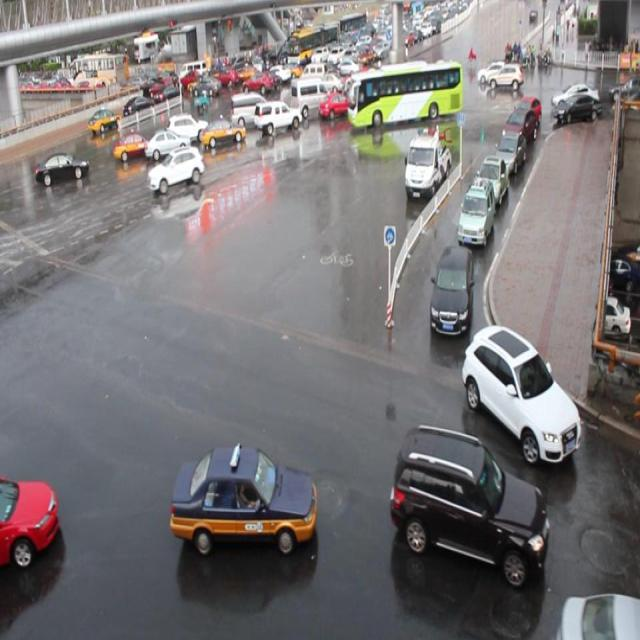bus: (402, 129, 452, 202)
car: (390, 425, 547, 582), (462, 324, 579, 462), (170, 446, 317, 551), (1, 476, 59, 565), (554, 591, 640, 640), (428, 244, 471, 332), (148, 146, 204, 192), (456, 180, 493, 245), (473, 150, 509, 208), (36, 146, 89, 184), (252, 96, 302, 133), (199, 112, 247, 150), (144, 126, 192, 160), (166, 108, 209, 144), (495, 124, 527, 170), (507, 106, 539, 150), (113, 129, 153, 158), (318, 90, 355, 117), (517, 94, 543, 132)
truck: (288, 75, 332, 115), (228, 90, 271, 128)
van: (348, 67, 461, 119)
